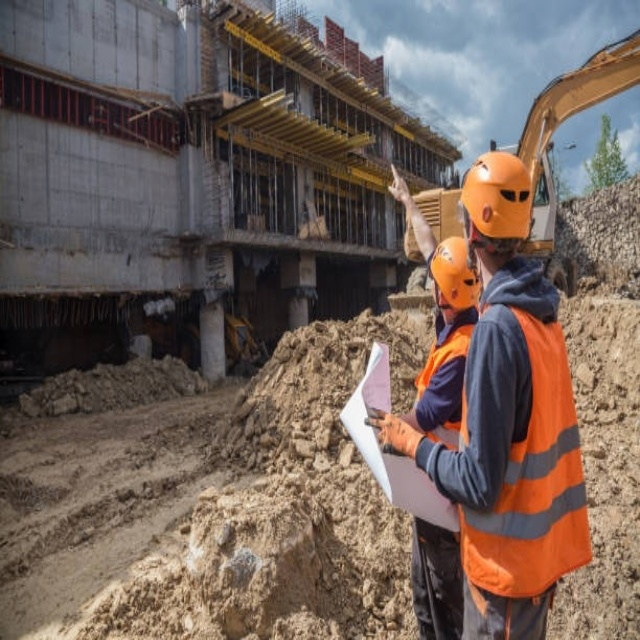Guantes: (362, 400, 429, 466)
Sin_guantes: (388, 162, 417, 212)
